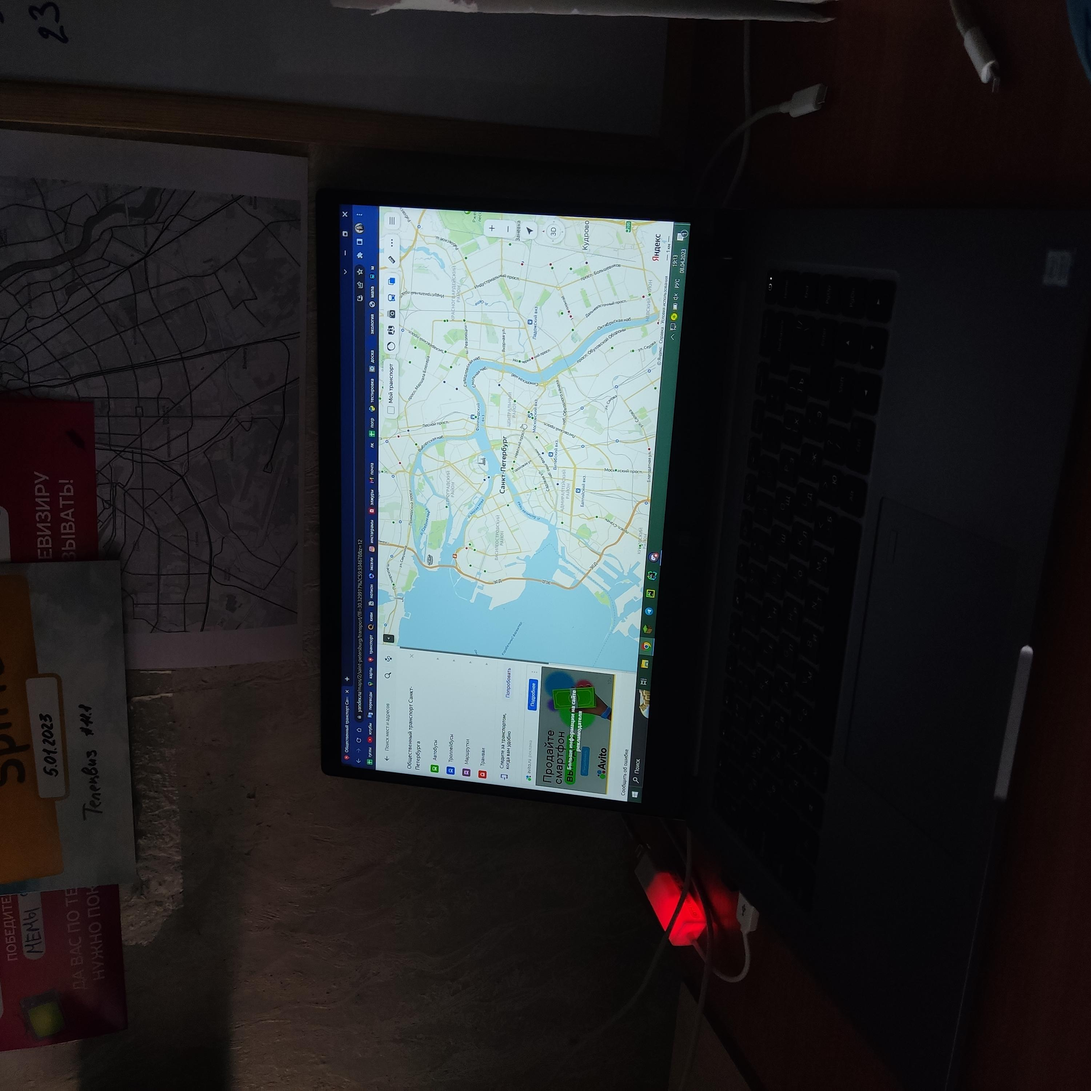monitor: (255, 315, 933, 780)
